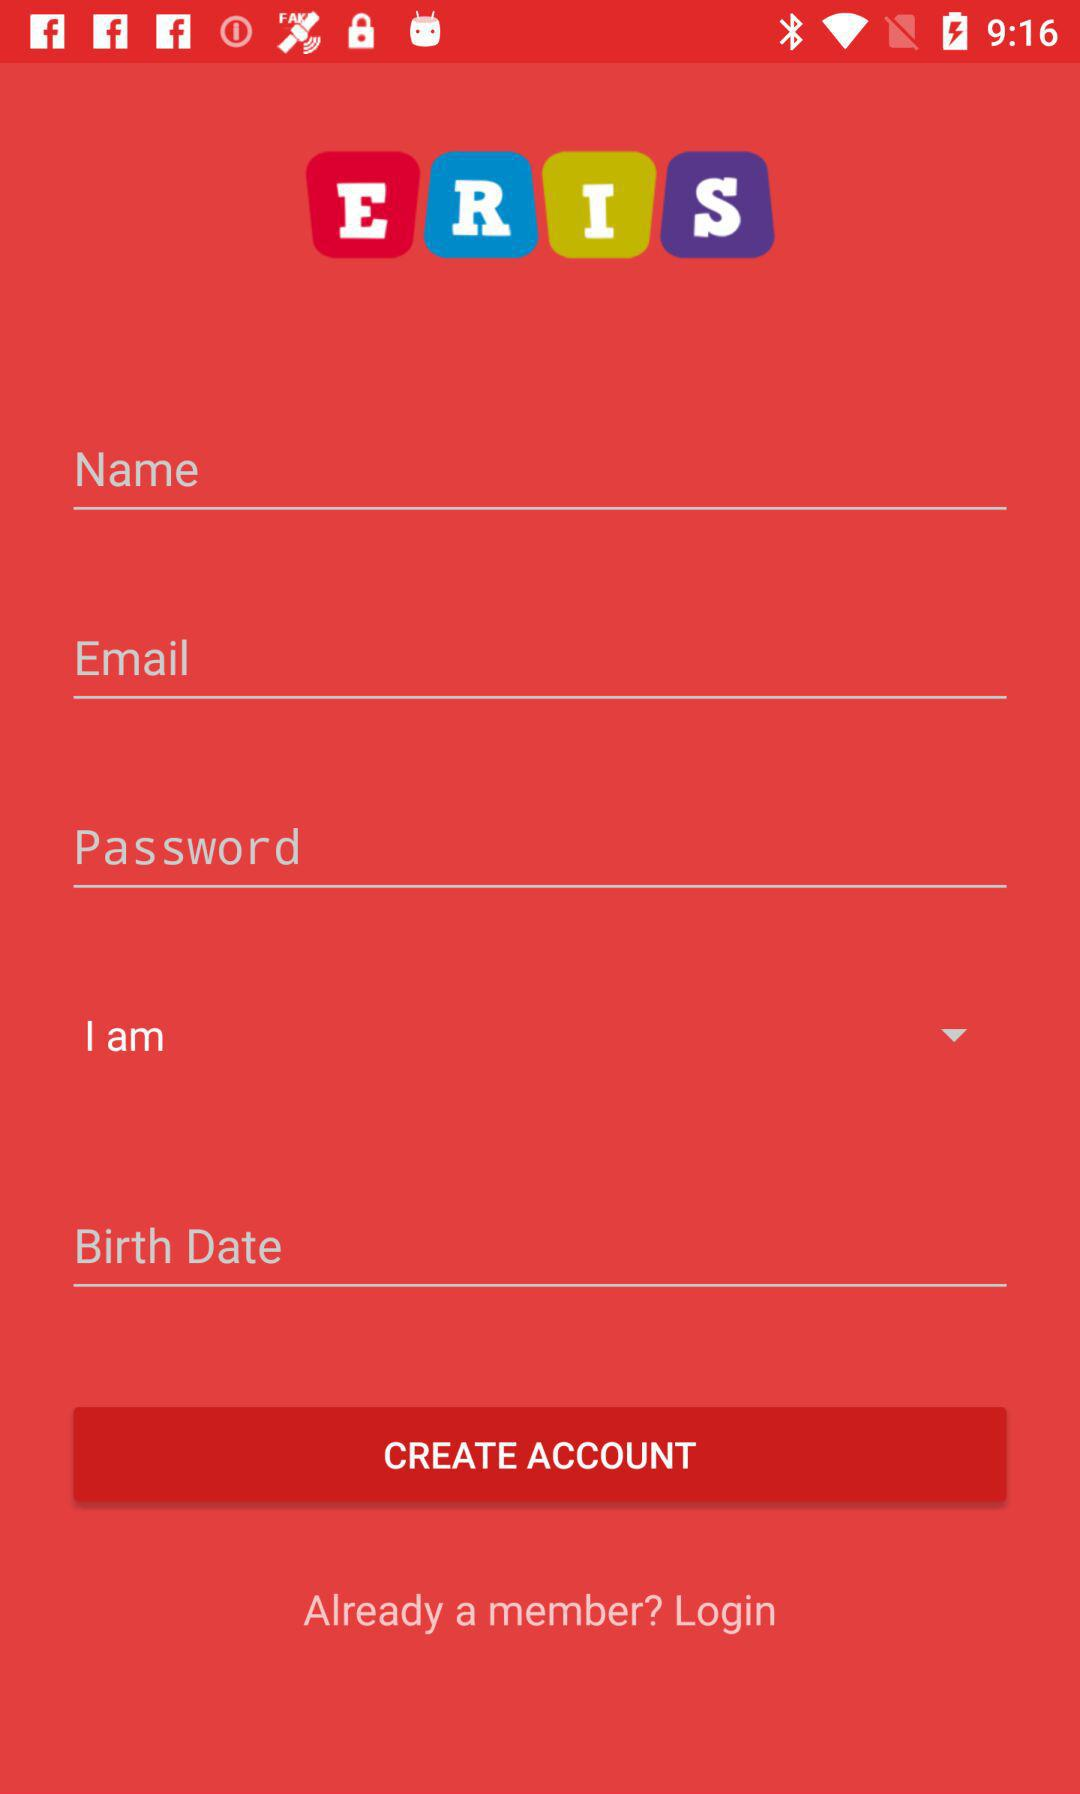EditText: (73, 827, 1008, 891), (73, 639, 1008, 701), (73, 1226, 1008, 1288), (73, 452, 1008, 513)
Icon: (940, 1028, 969, 1044)
Image: (306, 152, 775, 260)
Text: (304, 1593, 776, 1636), (77, 827, 300, 866), (77, 1226, 282, 1266), (76, 452, 199, 490), (76, 639, 188, 678), (88, 1020, 165, 1053)
TextButton: (74, 1407, 1007, 1503)
UpperTaskBar: (1, 1, 1080, 64)
